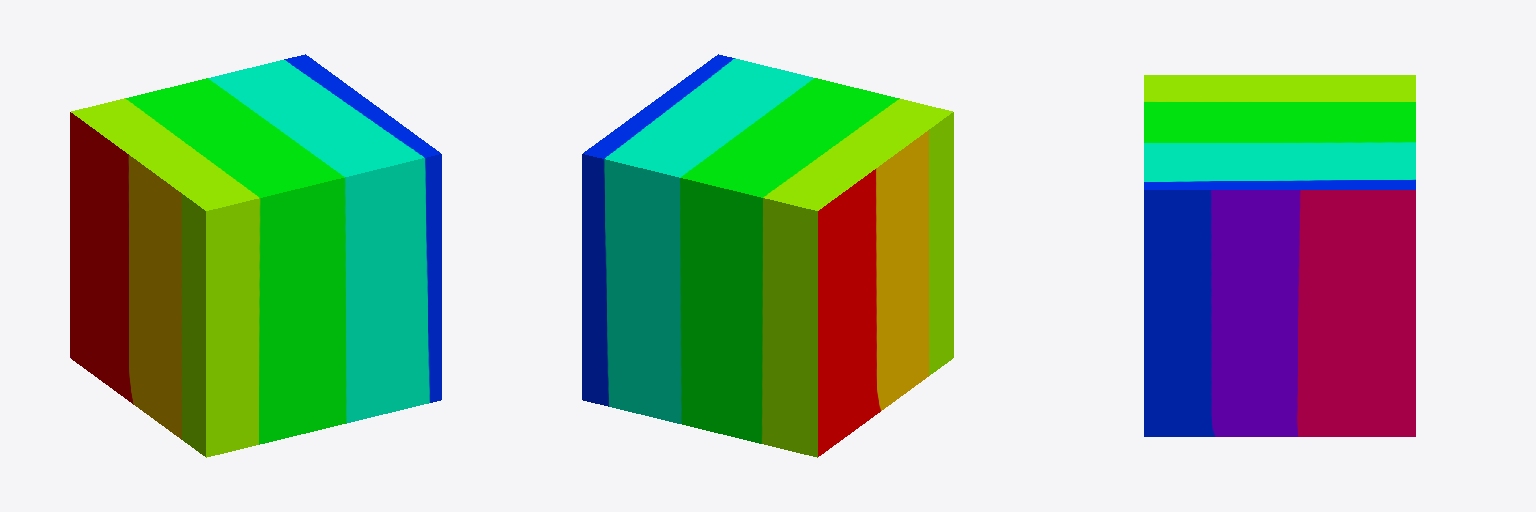
3 views of the same model, side by side, from view 1: azimuth 30°, elevation 25°; view 2: azimuth 150°, elevation 25°; view 3: azimuth 270°, elevation 25° (orthographic).
Parts seen in each view (by area): view 1: pCube1; view 2: pCube1; view 3: pCube1.
Part boxes in pixels (left/top/right/bottom): pCube1: left=70, top=54, right=441, bottom=457; pCube1: left=582, top=54, right=953, bottom=457; pCube1: left=1144, top=75, right=1415, bottom=436.
Bounding box in the file's own units: 2 × 2 × 2.
1 materials, 1 textured.